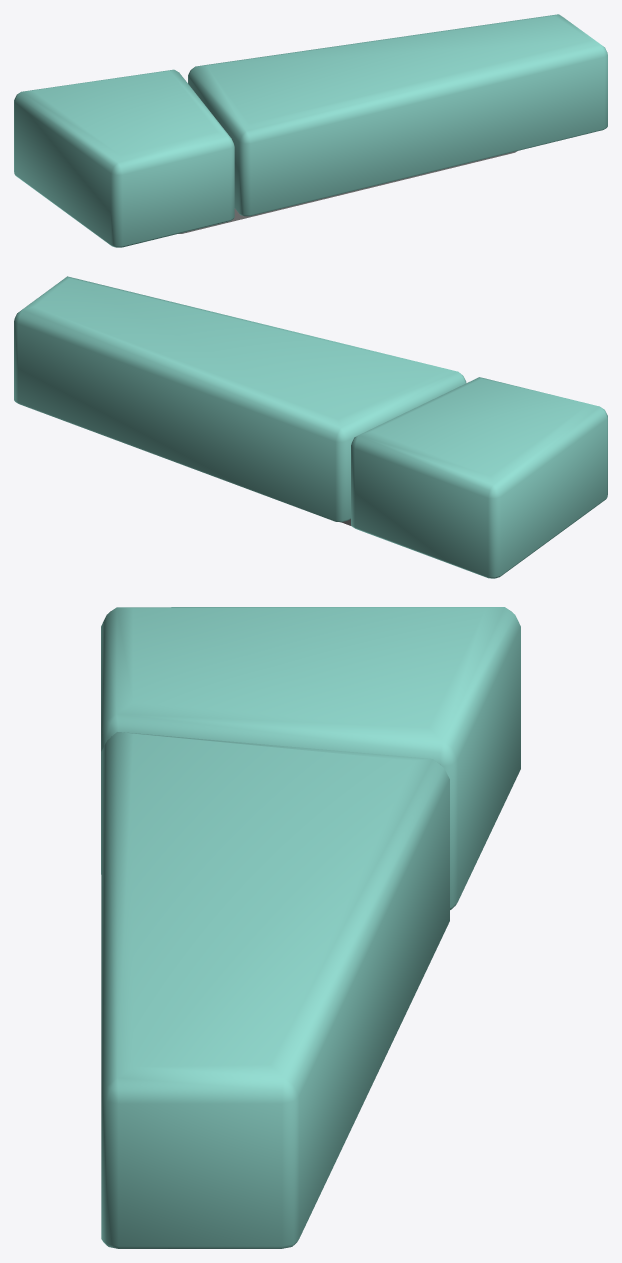
Rendered from diagonal-sohva.fbx.
3 renders of one model, top to bottom at view 1: azimuth 30°, elevation 25°; view 2: azimuth 150°, elevation 25°; view 3: azimuth 270°, elevation 25°, orthographic. The views are drawn at different scales.
Parts seen in each view (by area): view 1: SecondSeatCover, FirstSeatCover, SofaFrame; view 2: SecondSeatCover, FirstSeatCover; view 3: SecondSeatCover, FirstSeatCover.
Part boxes in pixels (box(x1,y1,x2,y2)): SecondSeatCover: box(188, 14, 607, 216); FirstSeatCover: box(14, 69, 234, 247); SofaFrame: box(178, 151, 517, 233); SecondSeatCover: box(14, 276, 466, 522); FirstSeatCover: box(351, 377, 607, 578); SecondSeatCover: box(101, 732, 449, 1248); FirstSeatCover: box(101, 607, 520, 909).
Bounding box in the file's own units: 400 × 76.88 × 147.
